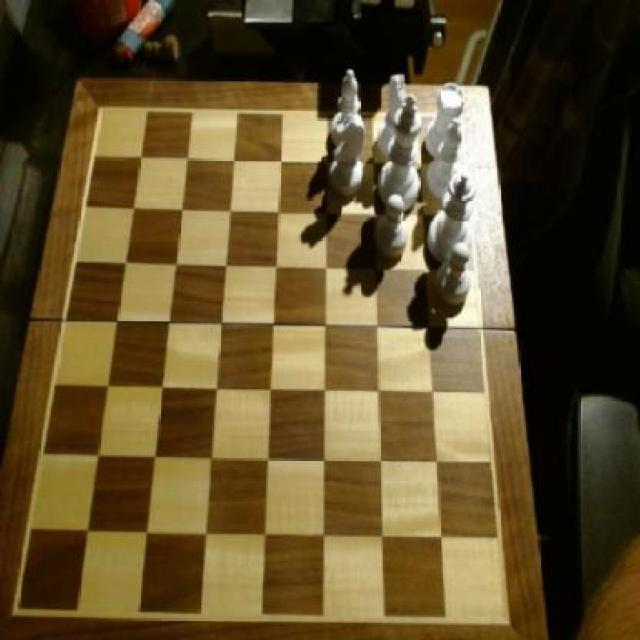black-rook: (426, 119, 469, 200), (329, 66, 363, 145)
white-bishop: (377, 97, 422, 210)
white-king: (331, 116, 365, 200), (375, 75, 404, 160)
white-knight: (375, 192, 410, 258), (440, 244, 475, 308)
white-pawn: (428, 171, 478, 263)
white-queen: (424, 84, 466, 160)
